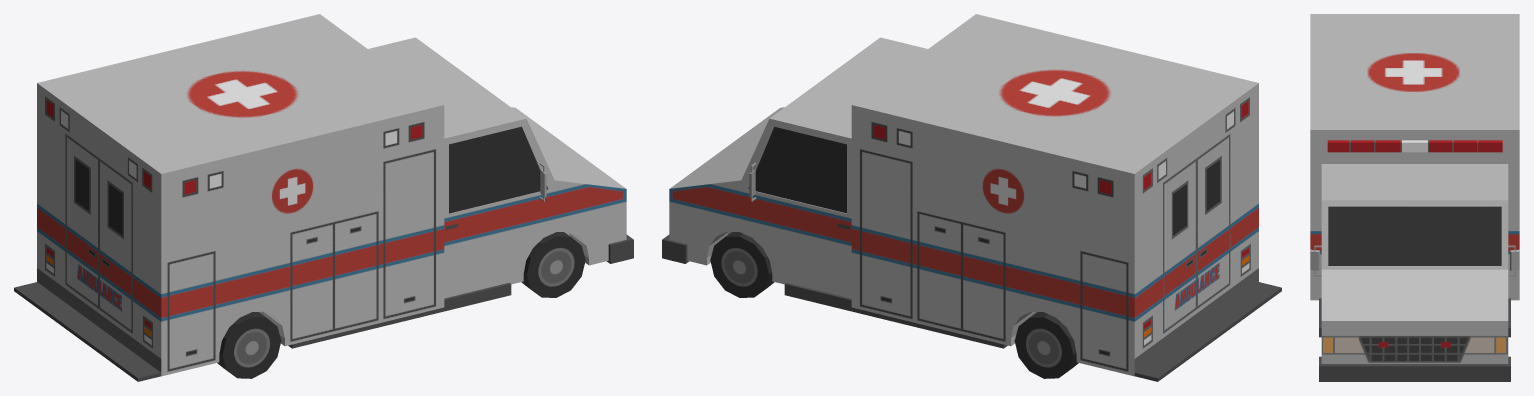
Rendered from LevelVehicle_5.fbx.
3 renders of one model, left to right at view 1: azimuth 30°, elevation 25°; view 2: azimuth 150°, elevation 25°; view 3: azimuth 270°, elevation 25°, orthographic. The views are drawn at different scales.
Parts seen in each view (by area): view 1: Vehicle_Ambulance__4_; view 2: Vehicle_Ambulance__4_; view 3: Vehicle_Ambulance__4_.
Boxes of the visible parts, x1=… form: Vehicle_Ambulance__4_: x1=14, y1=14, x2=633, y2=381; Vehicle_Ambulance__4_: x1=662, y1=14, x2=1281, y2=381; Vehicle_Ambulance__4_: x1=1310, y1=14, x2=1519, y2=381.
Size of the model in its own units: 357 by 155 by 154.
Materials: 1 (1 with a texture image).
